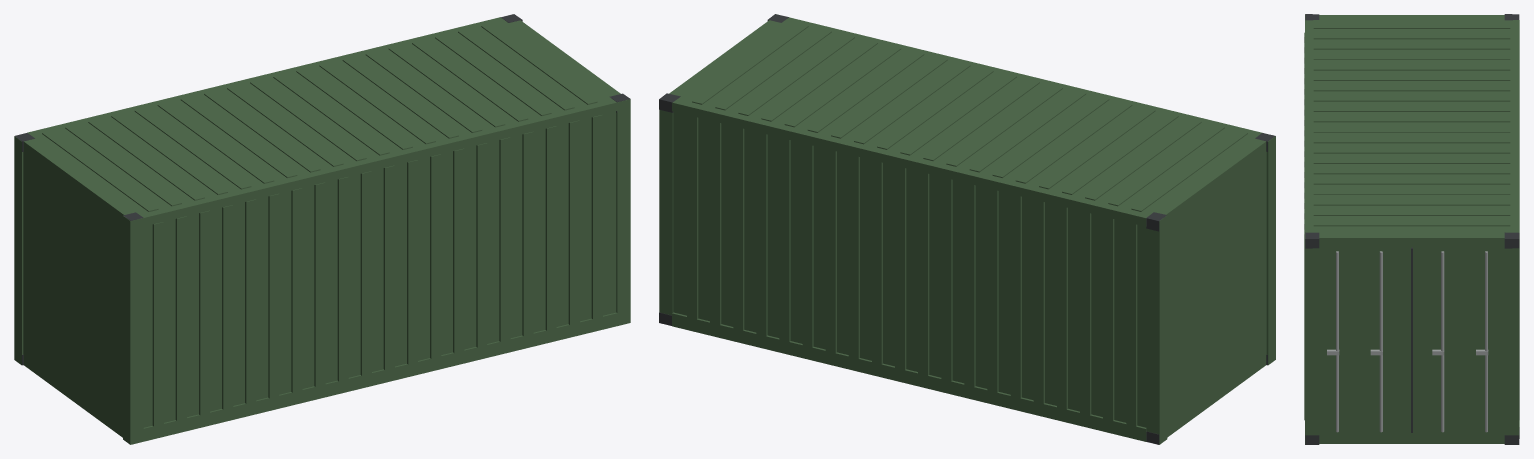
The model's file is prop_container_20_green.glb.
3 views of the same model, side by side, from view 1: azimuth 30°, elevation 25°; view 2: azimuth 150°, elevation 25°; view 3: azimuth 270°, elevation 25° (orthographic). The views are drawn at different scales.
Visible parts, largest first — view 1: Container; view 2: Container; view 3: Container.
Boxes of the visible parts, box(x1,y1,x2,y2) form: Container: box(14, 14, 630, 444); Container: box(659, 14, 1275, 444); Container: box(1304, 14, 1519, 444).
Bounding box in the file's own units: 6.11 × 2.6 × 2.46.
